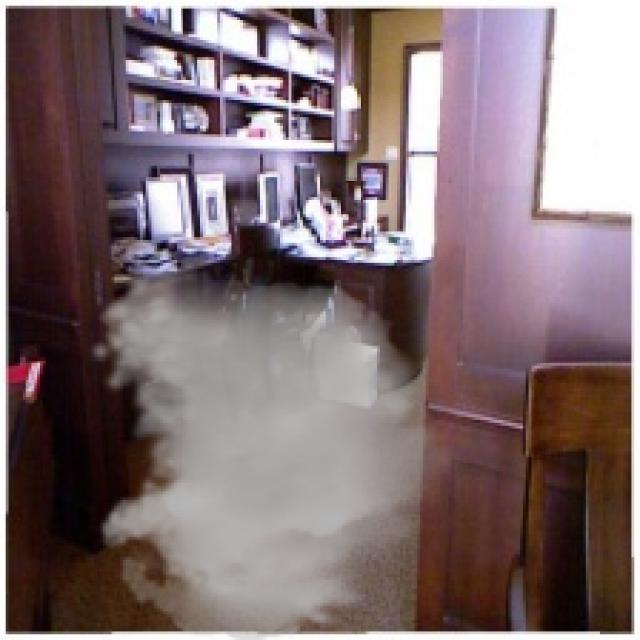smoke: (89, 266, 472, 637)
